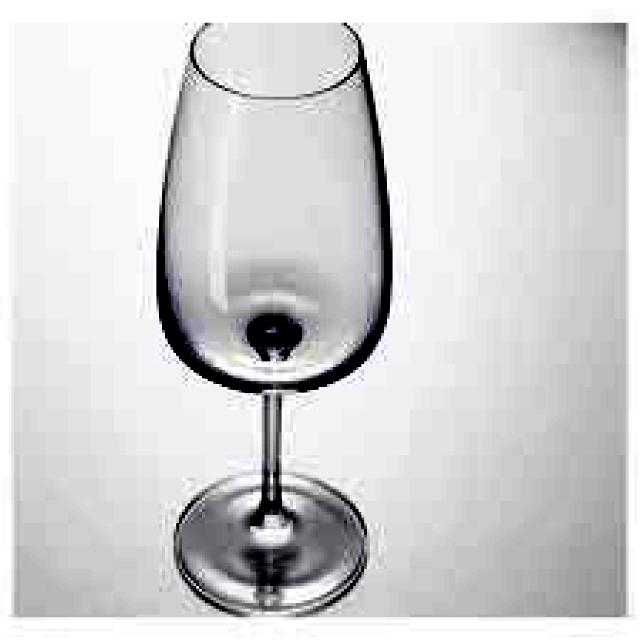Glass: (148, 19, 399, 619)
